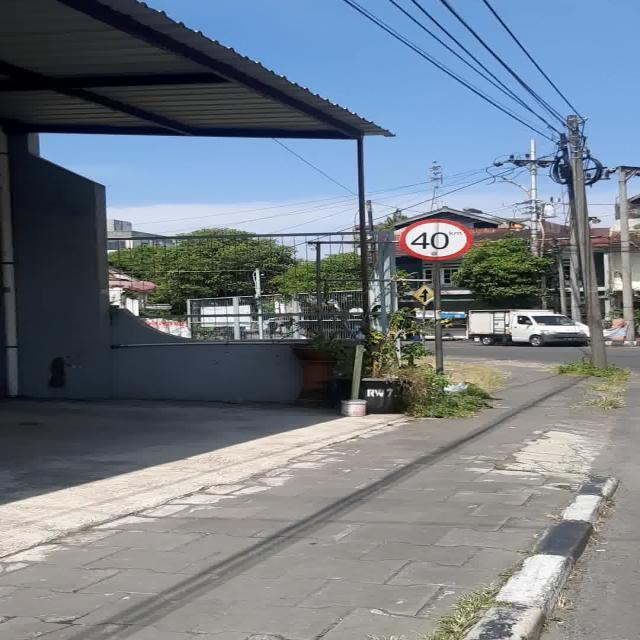Kecepatan Maks. 40 km: (400, 219, 472, 261)
